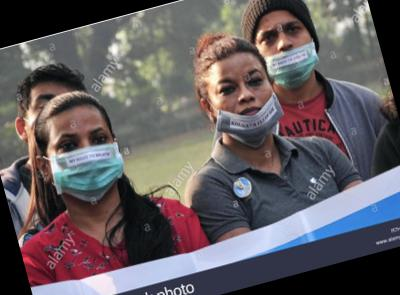mask_weared_incorrect: (205, 61, 285, 153), (249, 11, 326, 95)
with_mask: (42, 119, 129, 209)
